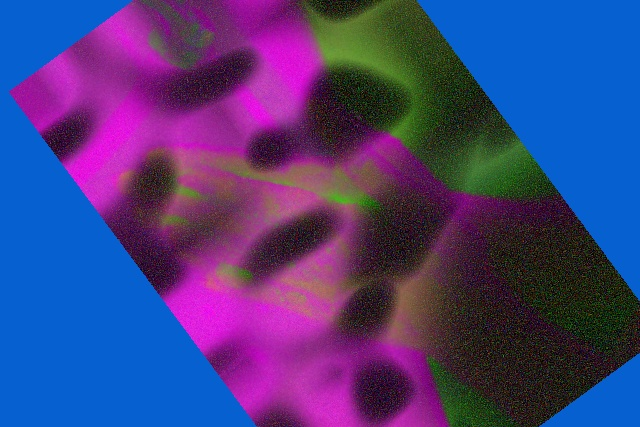washing hand: (17, 0, 565, 426)
